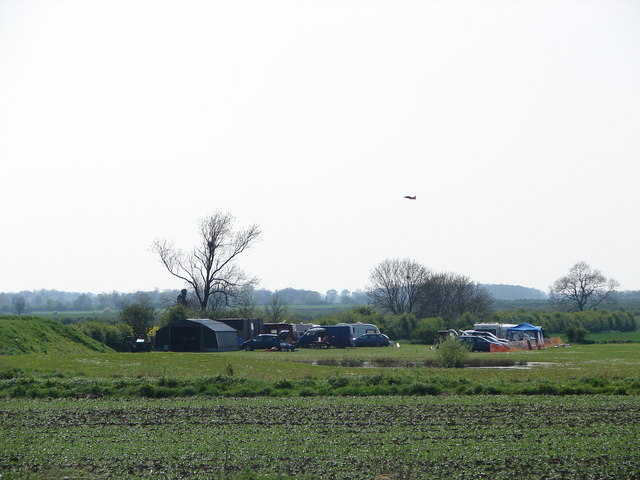aircraft: (403, 193, 418, 199)
